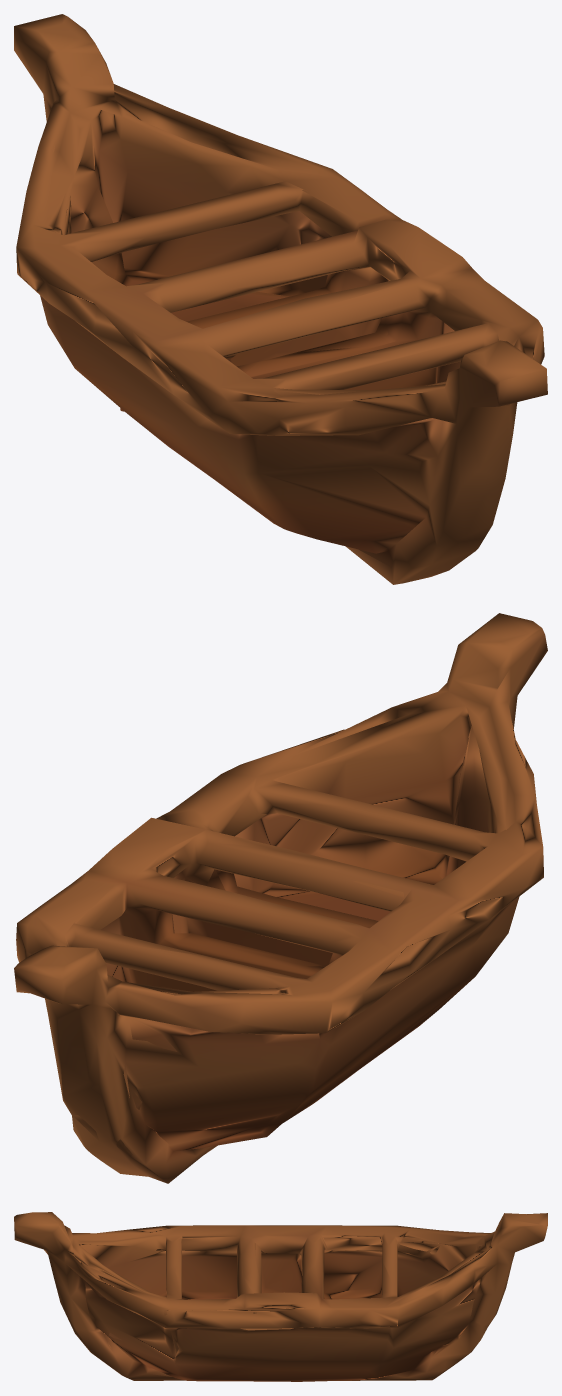
File: gen3d-wooden-ark-boat-lod0.glb
The picture shows the model from 3 angles, top to bottom: view 1: azimuth 30°, elevation 25°; view 2: azimuth 150°, elevation 25°; view 3: azimuth 270°, elevation 25°; orthographic projection. The views are drawn at different scales.
Parts seen in each view (by area): view 1: part_0; view 2: part_0; view 3: part_0.
Boxes of the visible parts, x1,y1,x2,y2 form: part_0: [14, 14, 547, 584]; part_0: [14, 613, 547, 1183]; part_0: [14, 1212, 547, 1381].
Size of the model in its own units: 1.17 by 1 by 3.09.
